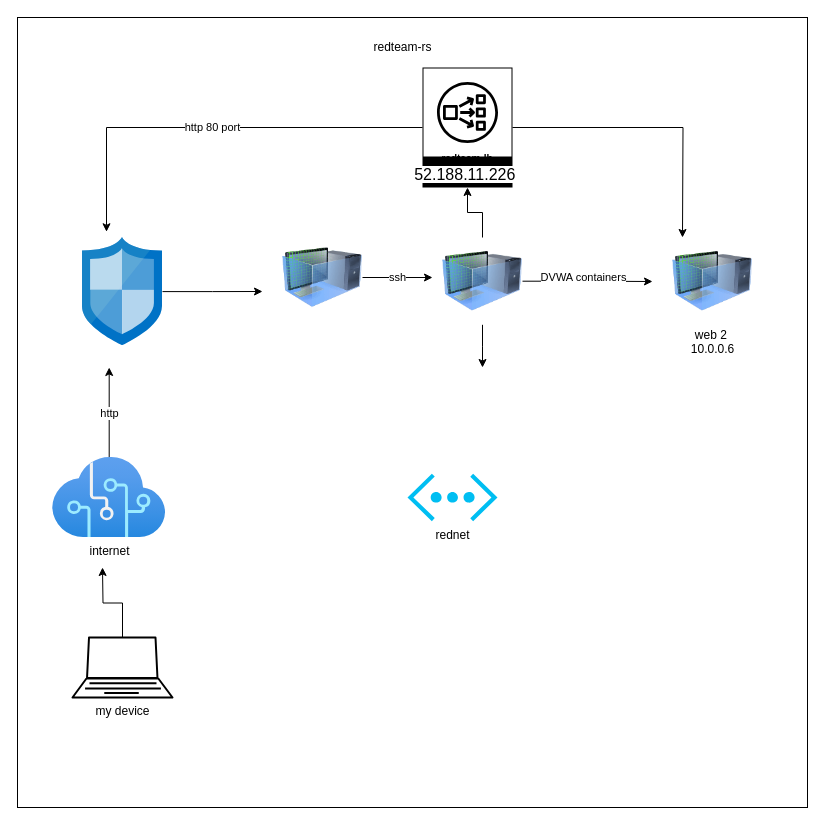
Image size: 825x825. Some labels were removed from this diagram. Each missing label, with the centre of its shape:
"jump box 40.88.43.166 10.0.0.4" goes at point (322, 277).
"redteam-sg" goes at point (122, 291).
"web 1 10.0.0.5" goes at point (482, 280).
